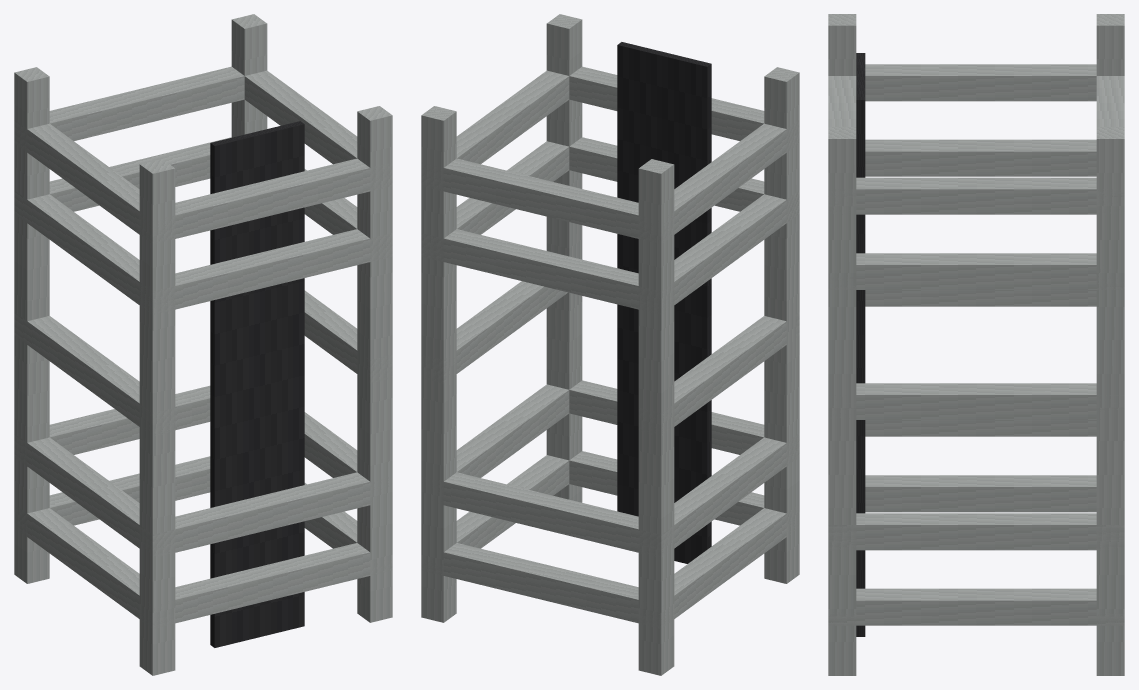
The model's file is mount_sce_3.obj.
The picture shows the model from 3 angles, left to right: view 1: azimuth 30°, elevation 25°; view 2: azimuth 150°, elevation 25°; view 3: azimuth 270°, elevation 25°; orthographic projection. The views are drawn at different scales.
Parts seen in each view (by area): view 1: transformer_bank_mount_sce_3; view 2: transformer_bank_mount_sce_3; view 3: transformer_bank_mount_sce_3.
Part boxes in pixels (box(x1,y1,x2,y2)): transformer_bank_mount_sce_3: box(14, 14, 392, 675); transformer_bank_mount_sce_3: box(421, 14, 799, 675); transformer_bank_mount_sce_3: box(828, 14, 1124, 675).
Size of the model in its own units: 1 by 2 by 1.
